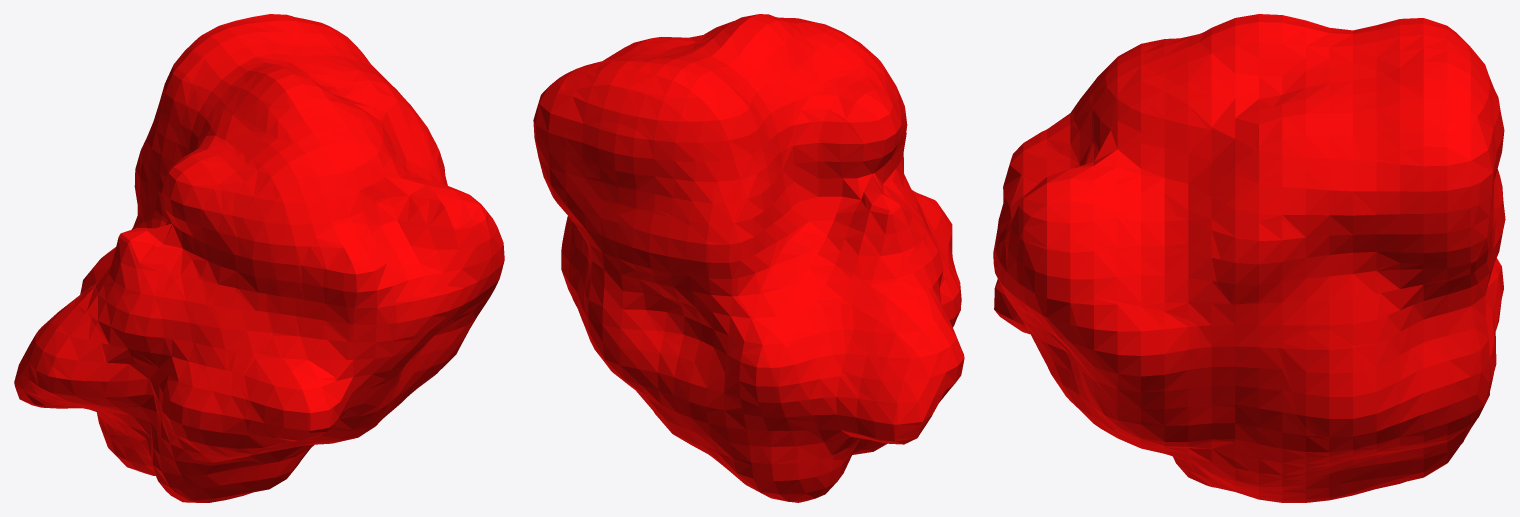
File: lipB_coarse.dae
The picture shows the model from 3 angles, left to right: view 1: azimuth 30°, elevation 25°; view 2: azimuth 150°, elevation 25°; view 3: azimuth 270°, elevation 25°; orthographic projection. The views are drawn at different scales.
Parts seen in each view (by area): view 1: lipB; view 2: lipB; view 3: lipB.
Boxes of the visible parts, x1=… form: lipB: x1=14, y1=14, x2=504, y2=502; lipB: x1=533, y1=14, x2=964, y2=502; lipB: x1=993, y1=14, x2=1505, y2=502.
Bounding box in the file's own units: 46.14 × 47.31 × 42.61.
